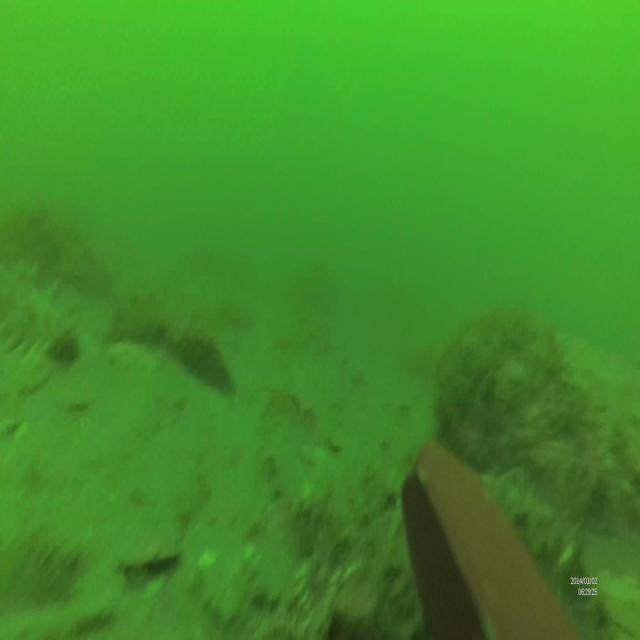holothurian: (0, 262, 84, 367)
